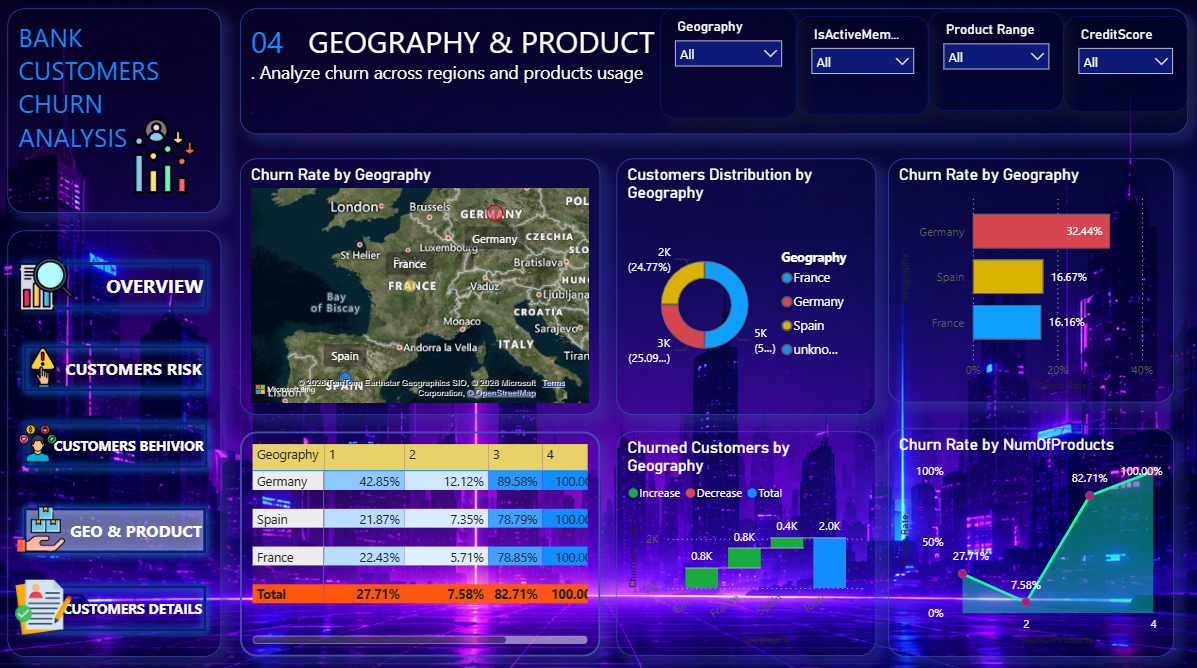

What the dashboard file says about the page in this screenshot:
{"tool":"powerbi","page":{"name":"GEO & PRODUCT","canvas":[1280,720],"ordinal":3},"visuals":[{"type":"textbox","box":[257.7,11.1,1005.3,133.6],"z":0},{"type":"textbox","box":[11.7,246.7,226.7,451.7],"z":1000},{"type":"textbox","box":[11.7,11.7,226.7,216.7],"z":2000},{"type":"actionButton","box":[18.3,271.7,211.7,66.7],"z":3000},{"type":"actionButton","box":[18.3,360,211.7,66.7],"z":4000},{"type":"actionButton","box":[20,440,211.7,66.7],"z":5000},{"type":"actionButton","box":[18.3,531.7,211.7,66.7],"z":6000},{"type":"actionButton","box":[18.3,613.3,211.7,66.7],"z":7000},{"type":"image","box":[136.8,106.6,82.7,120.9],"z":8000},{"type":"image","box":[20,531.7,51.7,63.3],"z":9000},{"type":"image","box":[28.3,360,43.3,63.3],"z":10000},{"type":"image","box":[20,440,45,63.3],"z":11000},{"type":"image","box":[23.3,271.7,56.7,63.3],"z":12000},{"type":"image","box":[18.3,613.3,60,63.3],"z":13000},{"type":"map","fields":{"Size":["Table.Churn Rate"],"Category":["bank_churn bank_customer_churn.Geography"]},"box":[258.3,170,381.7,271.7],"z":14000},{"type":"barChart","fields":{"Category":["bank_churn bank_customer_churn.Geography"],"Y":["Table.Churn Rate"]},"box":[945,170,303.3,258.3],"z":15000},{"type":"donutChart","title":"Customers Distribution by Geography","fields":{"Category":["bank_churn bank_customer_churn.Geography"],"Y":["Table.Total Customers"]},"box":[656.7,170,275,271.7],"z":16000},{"type":"lineChart","fields":{"Category":["bank_churn bank_customer_churn.NumOfProducts"],"Y":["Table.Churn Rate"]},"box":[945,456.7,303.3,241.7],"z":17000},{"type":"slicer","fields":{"Values":["bank_churn bank_customer_churn.Geography"]},"box":[703.3,11.7,145,116.7],"z":18000},{"type":"slicer","fields":{"Values":["bank_churn bank_customer_churn.CreditScore"]},"box":[1131.7,18.3,131.7,101.7],"z":19000},{"type":"slicer","fields":{"Values":["bank_churn bank_customer_churn.IsActiveMember"]},"box":[848.3,18.3,140,105],"z":20000},{"type":"slicer","fields":{"Values":["bank_churn bank_customer_churn.Product Range"]},"box":[988.3,15,143.3,105],"z":21000},{"type":"pivotTable","fields":{"Rows":["bank_churn bank_customer_churn.Geography"],"Columns":["bank_churn bank_customer_churn.NumOfProducts"],"Values":["Table.Churn Rate"]},"box":[258.3,460,381.7,238.3],"z":22000},{"type":"waterfallChart","fields":{"Category":["bank_churn bank_customer_churn.Geography"],"Y":["Table.Churned Customers"]},"box":[657,460,275,238],"z":22001}]}

Visuals, with their boxes in screenshot pixels (x1, y1, x2, y2), scaled from the page's 1280x720 canvas onto the 1197x668 screenshot:
textbox: region(241, 10, 1181, 134)
textbox: region(11, 229, 223, 648)
textbox: region(11, 11, 223, 212)
actionButton: region(17, 252, 215, 314)
actionButton: region(17, 334, 215, 396)
actionButton: region(19, 408, 217, 470)
actionButton: region(17, 493, 215, 555)
actionButton: region(17, 569, 215, 631)
image: region(128, 99, 205, 211)
image: region(19, 493, 67, 552)
image: region(26, 334, 67, 393)
image: region(19, 408, 61, 467)
image: region(22, 252, 75, 311)
image: region(17, 569, 73, 628)
map - Table.Churn Rate x bank_churn bank_customer_churn.Geography: region(242, 158, 598, 410)
barChart - bank_churn bank_customer_churn.Geography x Table.Churn Rate: region(884, 158, 1167, 397)
"Customers Distribution by Geography" donutChart: region(614, 158, 871, 410)
lineChart - bank_churn bank_customer_churn.NumOfProducts x Table.Churn Rate: region(884, 424, 1167, 648)
slicer - bank_churn bank_customer_churn.Geography: region(658, 11, 793, 119)
slicer - bank_churn bank_customer_churn.CreditScore: region(1058, 17, 1181, 111)
slicer - bank_churn bank_customer_churn.IsActiveMember: region(793, 17, 924, 114)
slicer - bank_churn bank_customer_churn.Product Range: region(924, 14, 1058, 111)
pivotTable - bank_churn bank_customer_churn.Geography x bank_churn bank_customer_churn.NumOfProducts: region(242, 427, 598, 648)
waterfallChart - bank_churn bank_customer_churn.Geography x Table.Churned Customers: region(614, 427, 872, 648)
